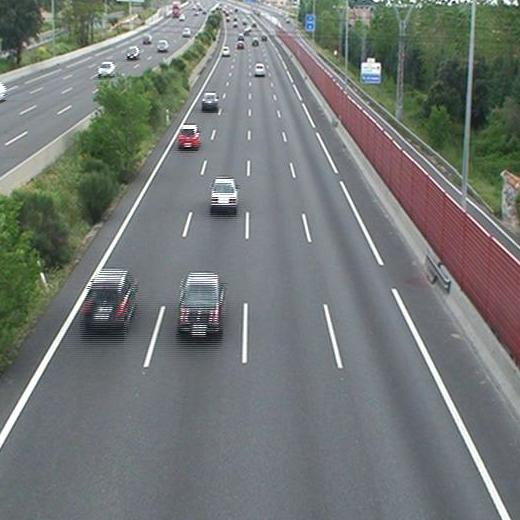car: (84, 272, 135, 328), (179, 275, 222, 335), (210, 180, 237, 211), (178, 126, 199, 149), (202, 93, 219, 110), (254, 63, 266, 75), (222, 48, 230, 56), (252, 38, 258, 47), (236, 41, 243, 48)
